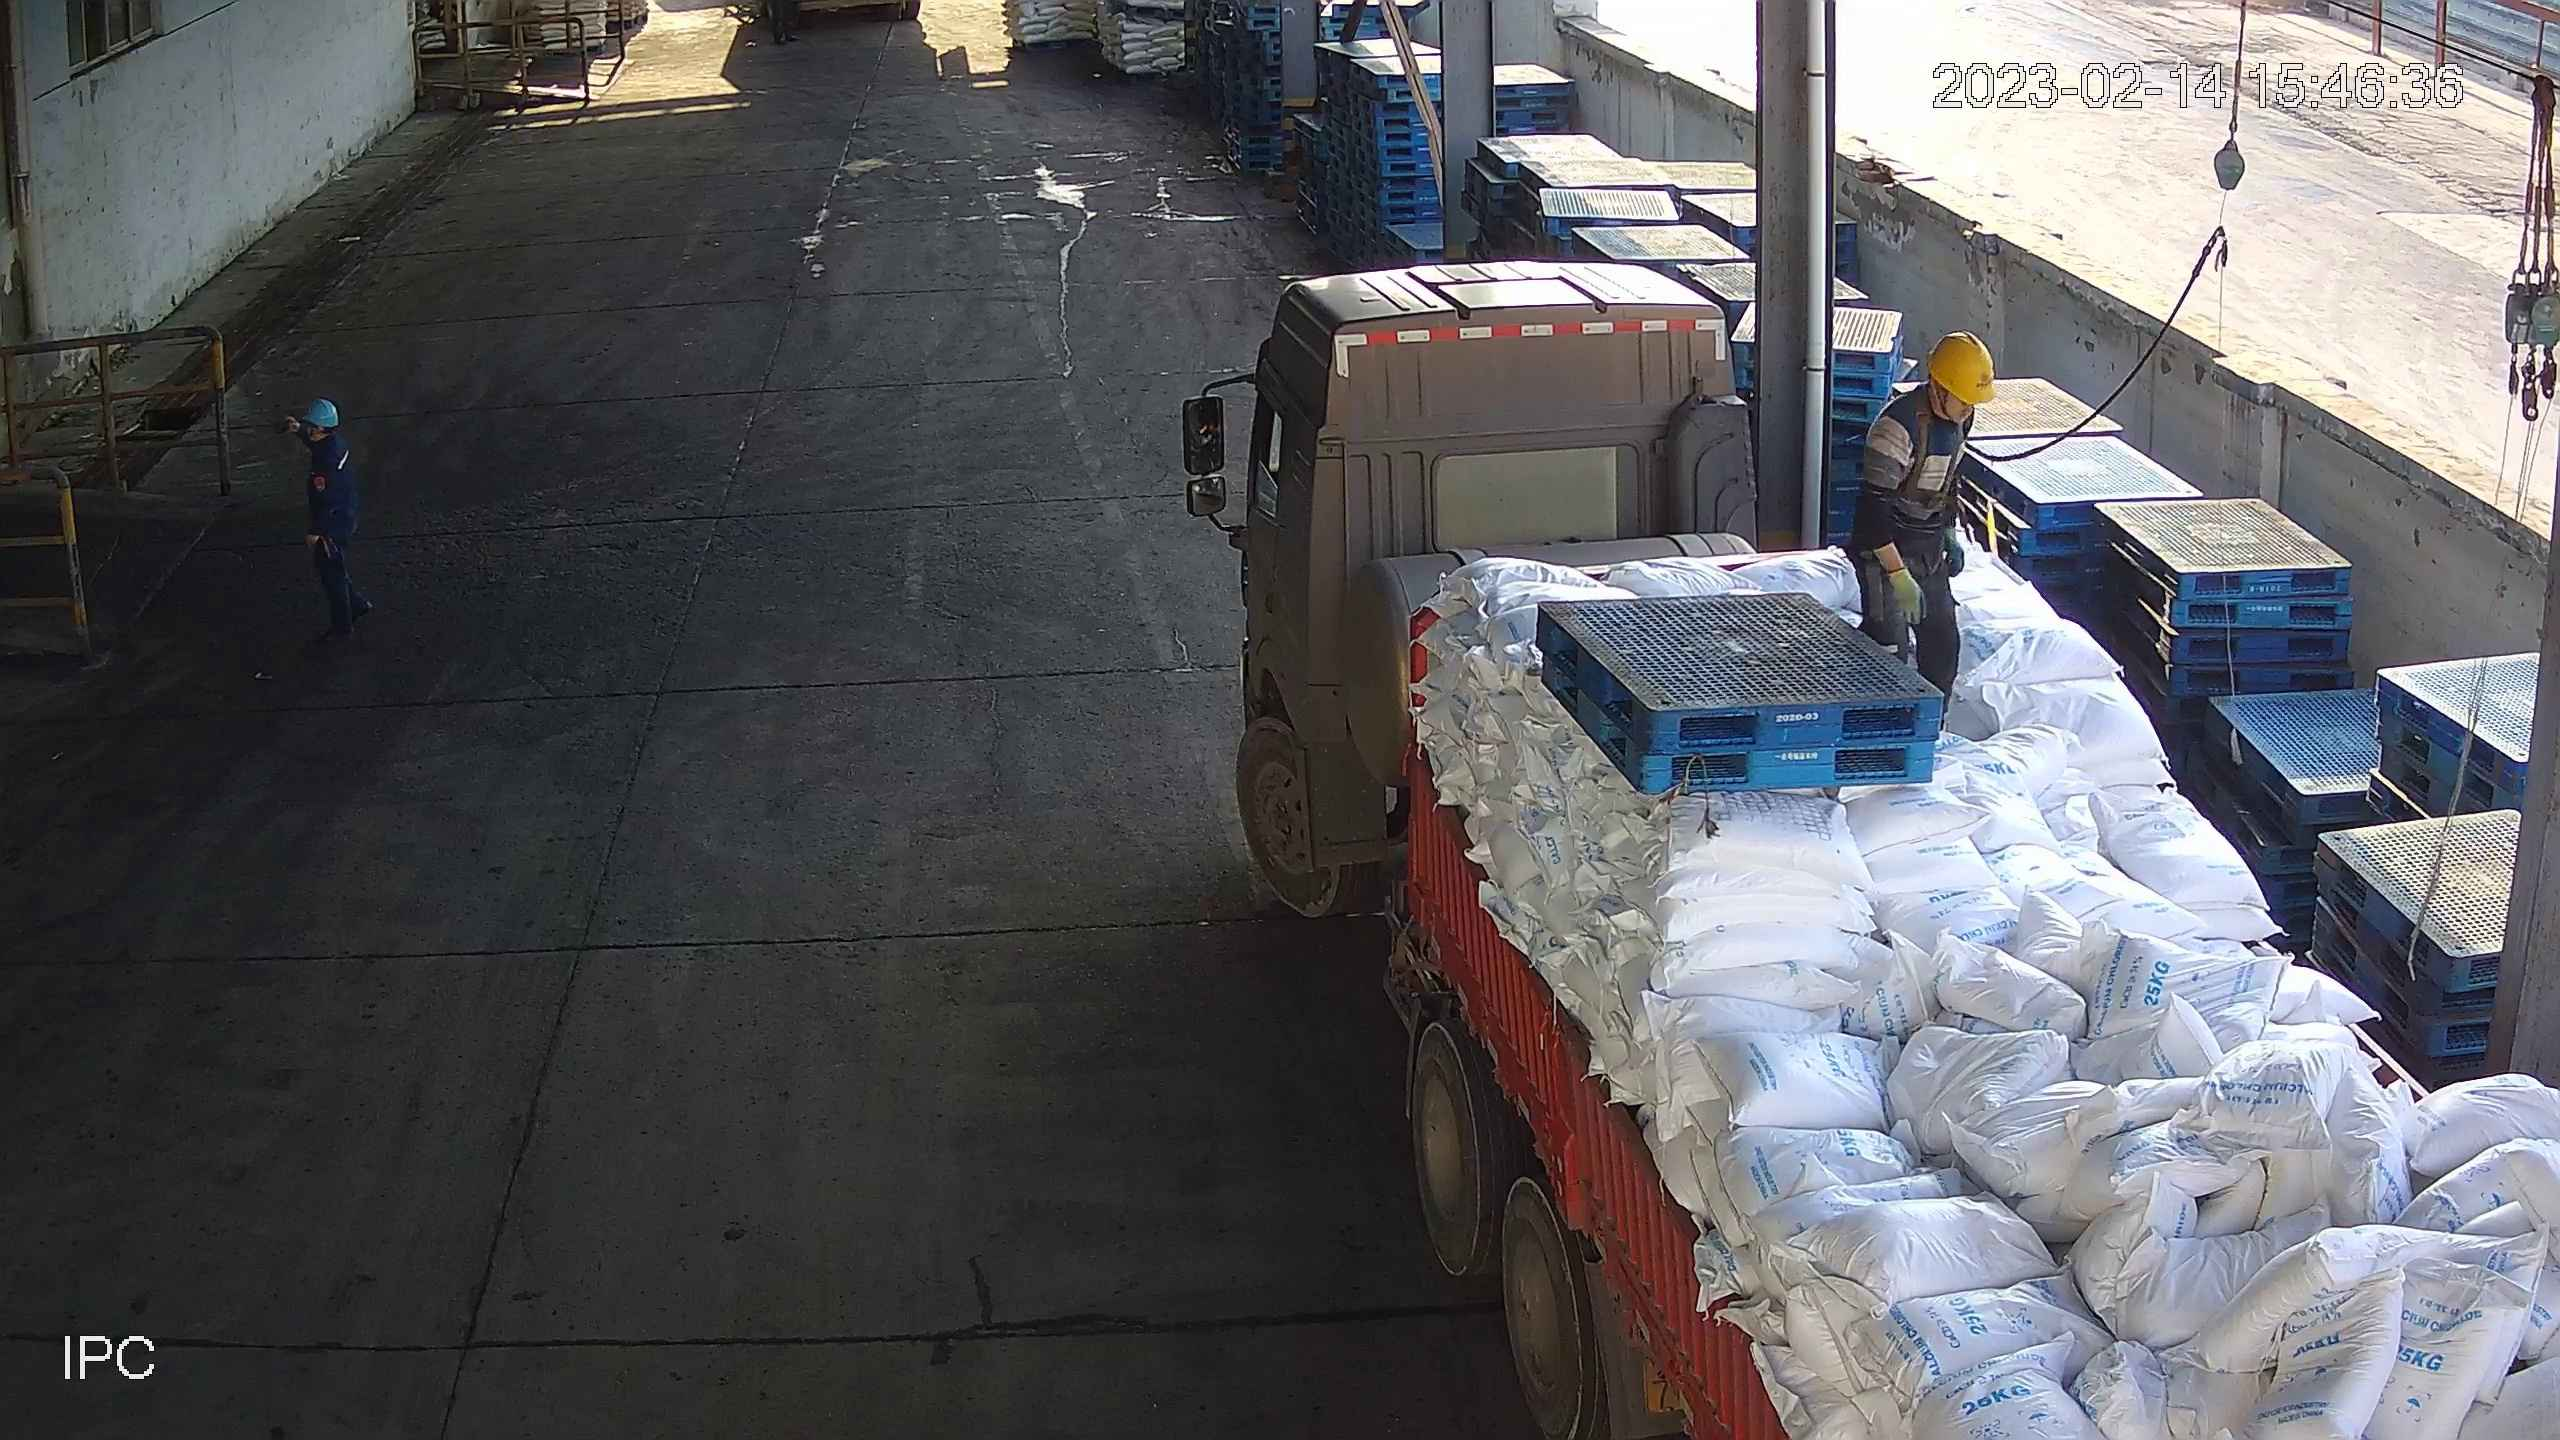belt: (1890, 383, 2004, 518)
head: (1863, 326, 1999, 466), (272, 396, 360, 467)
helmet: (1927, 328, 2000, 407), (300, 395, 340, 429)
people: (1847, 327, 2000, 748), (268, 395, 378, 644)
truck: (1233, 254, 2560, 1440)
